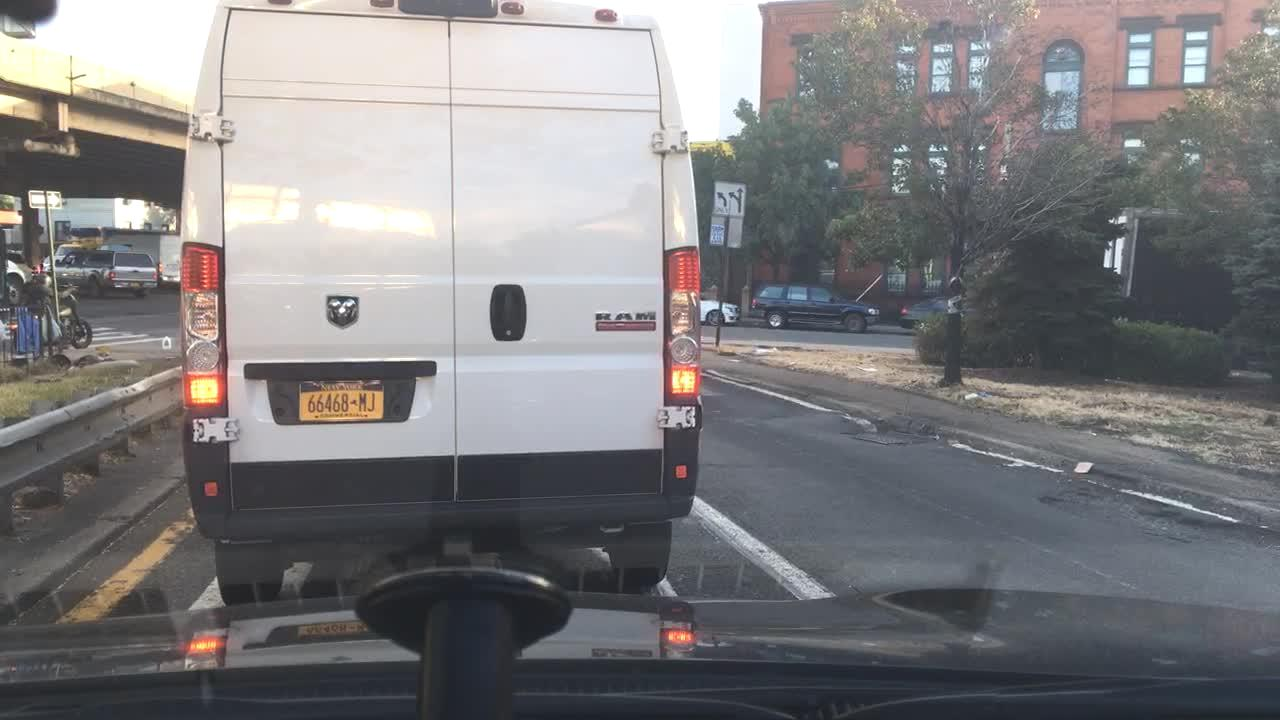ram: (326, 291, 360, 331)
